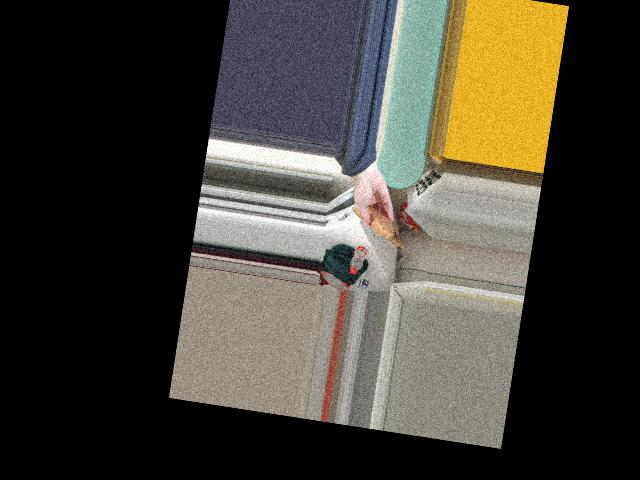sweet_potato: (355, 206, 394, 236)
